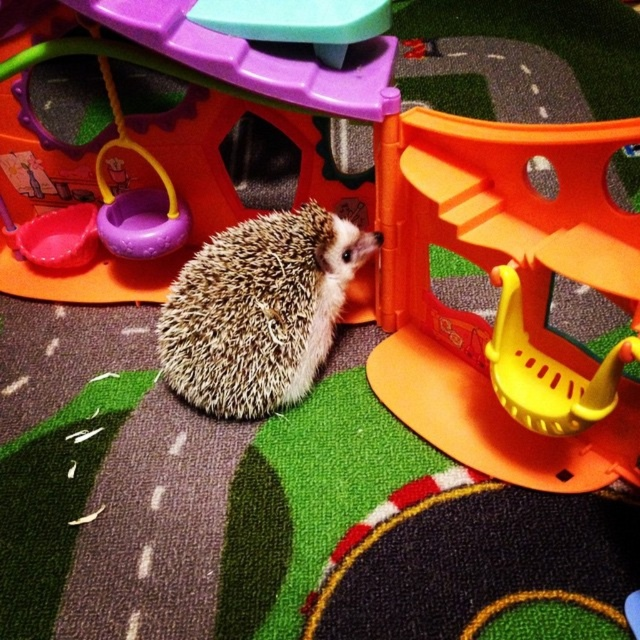Hedgehog: (152, 196, 386, 419)
